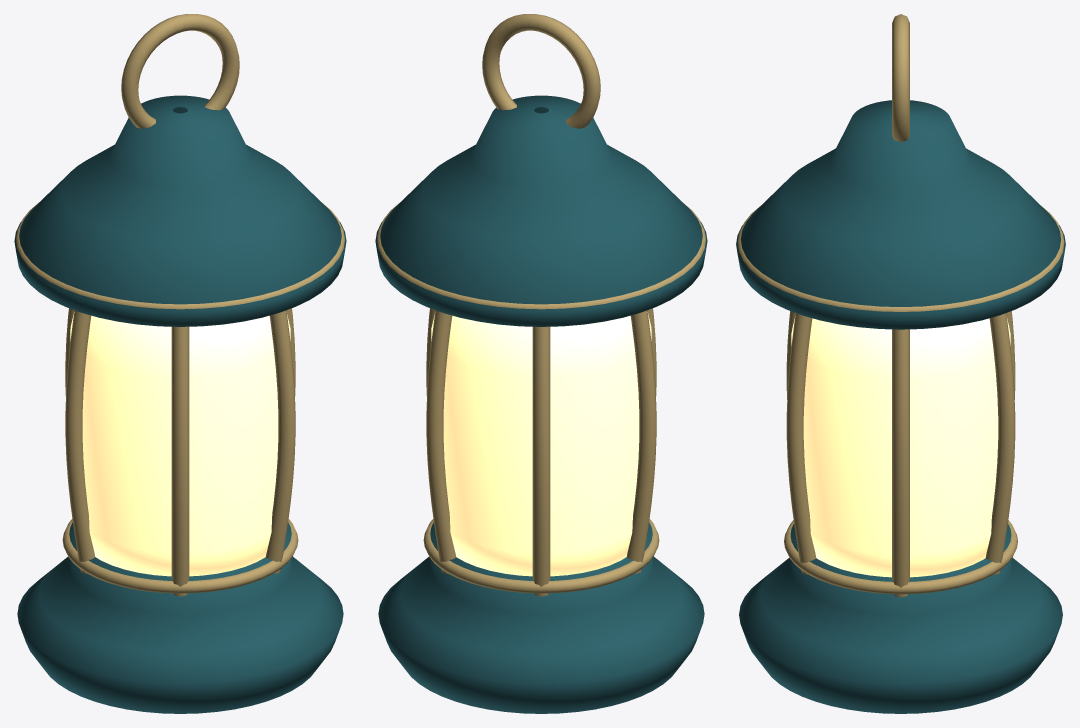
The model's file is maritime_lantern.glb.
The picture shows the model from 3 angles, left to right: view 1: azimuth 30°, elevation 25°; view 2: azimuth 150°, elevation 25°; view 3: azimuth 270°, elevation 25°; orthographic projection.
Parts seen in each view (by area): view 1: maritime_lantern__Enamel_Marine, maritime_lantern__Amber lantern glass, maritime_lantern__SatinBrass_Maritime; view 2: maritime_lantern__Enamel_Marine, maritime_lantern__Amber lantern glass, maritime_lantern__SatinBrass_Maritime; view 3: maritime_lantern__Enamel_Marine, maritime_lantern__Amber lantern glass, maritime_lantern__SatinBrass_Maritime.
Boxes of the visible parts, x1=… form: maritime_lantern__Enamel_Marine: x1=14, y1=95, x2=346, y2=713; maritime_lantern__Amber lantern glass: x1=70, y1=312, x2=290, y2=576; maritime_lantern__SatinBrass_Maritime: x1=16, y1=14, x2=344, y2=596; maritime_lantern__Enamel_Marine: x1=375, y1=95, x2=707, y2=713; maritime_lantern__Amber lantern glass: x1=431, y1=312, x2=651, y2=576; maritime_lantern__SatinBrass_Maritime: x1=377, y1=14, x2=705, y2=596; maritime_lantern__Enamel_Marine: x1=736, y1=100, x2=1065, y2=713; maritime_lantern__Amber lantern glass: x1=791, y1=316, x2=1010, y2=577; maritime_lantern__SatinBrass_Maritime: x1=737, y1=14, x2=1064, y2=597.
Size of the model in its own units: 0.448 by 0.951 by 0.448.
